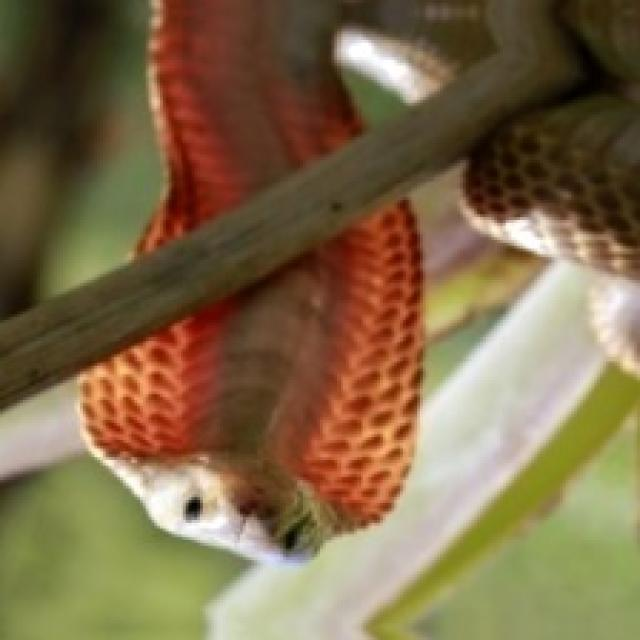philippine cobra: (80, 200, 420, 560), (140, 0, 360, 251)
